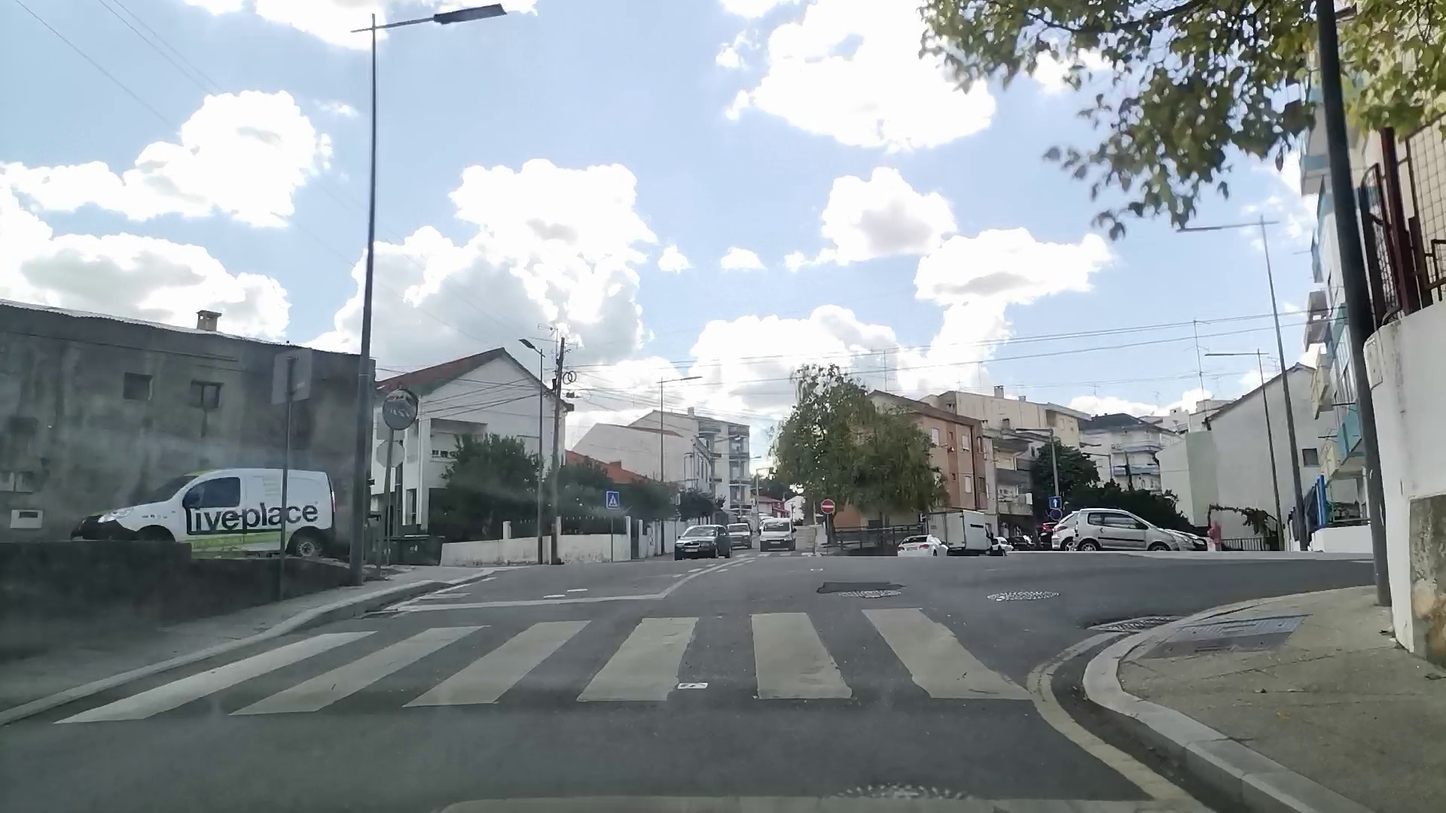Stairs: (50, 606, 1038, 723)
